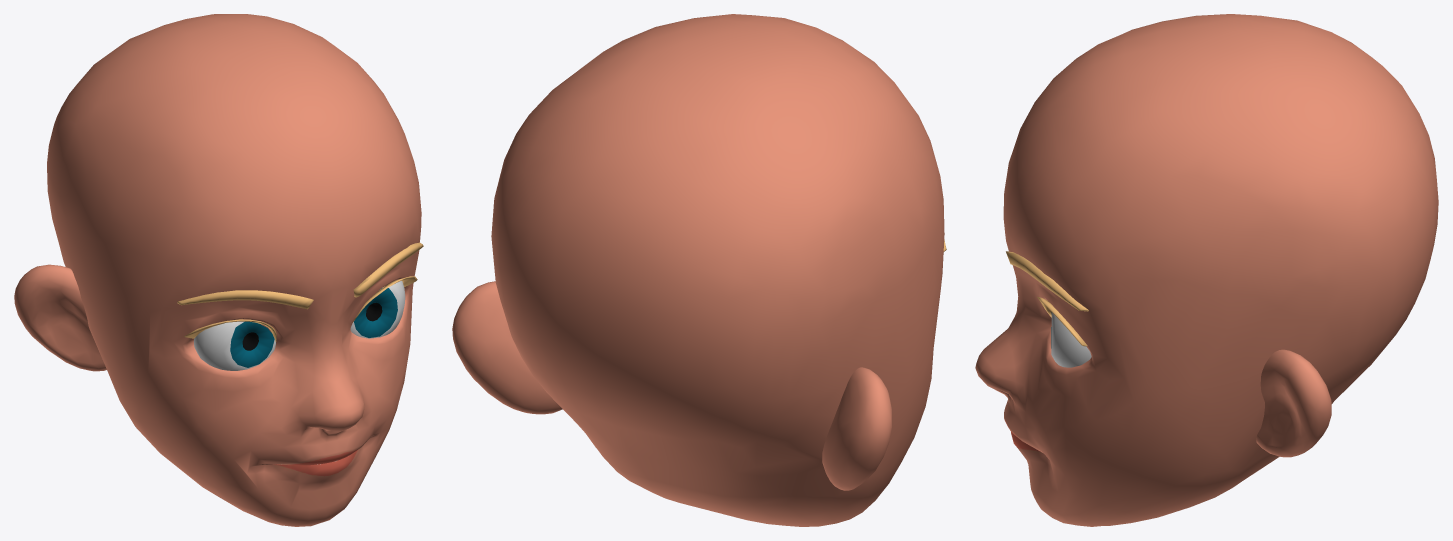
The picture shows the model from 3 angles, left to right: view 1: azimuth 30°, elevation 25°; view 2: azimuth 150°, elevation 25°; view 3: azimuth 270°, elevation 25°; orthographic projection. The views are drawn at different scales.
Parts seen in each view (by area): view 1: skin.001, ears.001, eyes.003, brows.001, eyes.002; view 2: skin.001, ears.001; view 3: skin.001, ears.001, brows.001, eyes.002.
Boxes of the visible parts, x1=… form: skin.001: x1=47, y1=14, x2=421, y2=526; ears.001: x1=14, y1=264, x2=106, y2=371; eyes.003: x1=193, y1=321, x2=275, y2=370; brows.001: x1=177, y1=242, x2=423, y2=341; eyes.002: x1=350, y1=281, x2=405, y2=338; skin.001: x1=491, y1=14, x2=944, y2=526; ears.001: x1=452, y1=281, x2=891, y2=490; skin.001: x1=975, y1=14, x2=1438, y2=526; ears.001: x1=1256, y1=349, x2=1331, y2=457; brows.001: x1=1006, y1=251, x2=1088, y2=346; eyes.002: x1=1051, y1=312, x2=1091, y2=367.
Bounding box in the file's own units: 1.74 × 2 × 1.76.
Materials: 15 (1 with a texture image).
